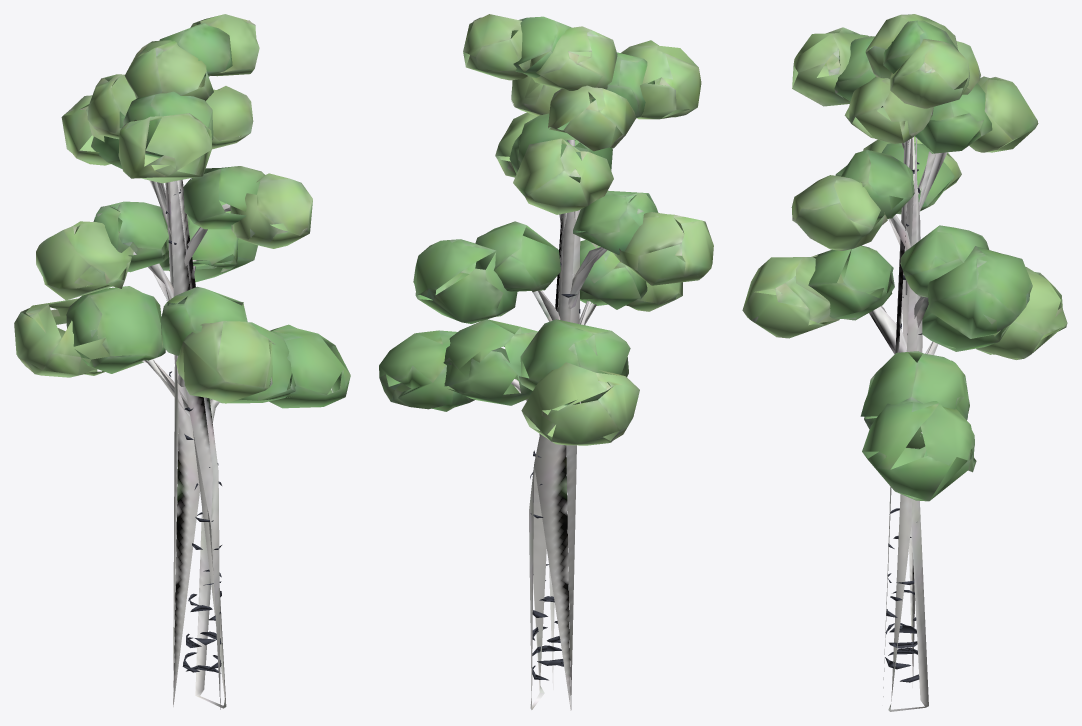
The model's file is birch.glb.
The picture shows the model from 3 angles, left to right: view 1: azimuth 30°, elevation 25°; view 2: azimuth 150°, elevation 25°; view 3: azimuth 270°, elevation 25°; orthographic projection. The views are drawn at different scales.
Visible parts, largest first — view 1: birch-tree_body, birch-tree_bark_marks; view 2: birch-tree_body, birch-tree_bark_marks; view 3: birch-tree_body, birch-tree_bark_marks.
Part boxes in pixels (<box>): birch-tree_body: <box>14,14,350,709</box>; birch-tree_bark_marks: <box>165,188,221,673</box>; birch-tree_body: <box>379,14,713,710</box>; birch-tree_bark_marks: <box>530,262,580,680</box>; birch-tree_body: <box>742,14,1067,711</box>; birch-tree_bark_marks: <box>885,162,922,682</box>.
Bounding box in the file's own units: 3.09 × 6.64 × 2.88.
Materials: 2 (1 with a texture image).
